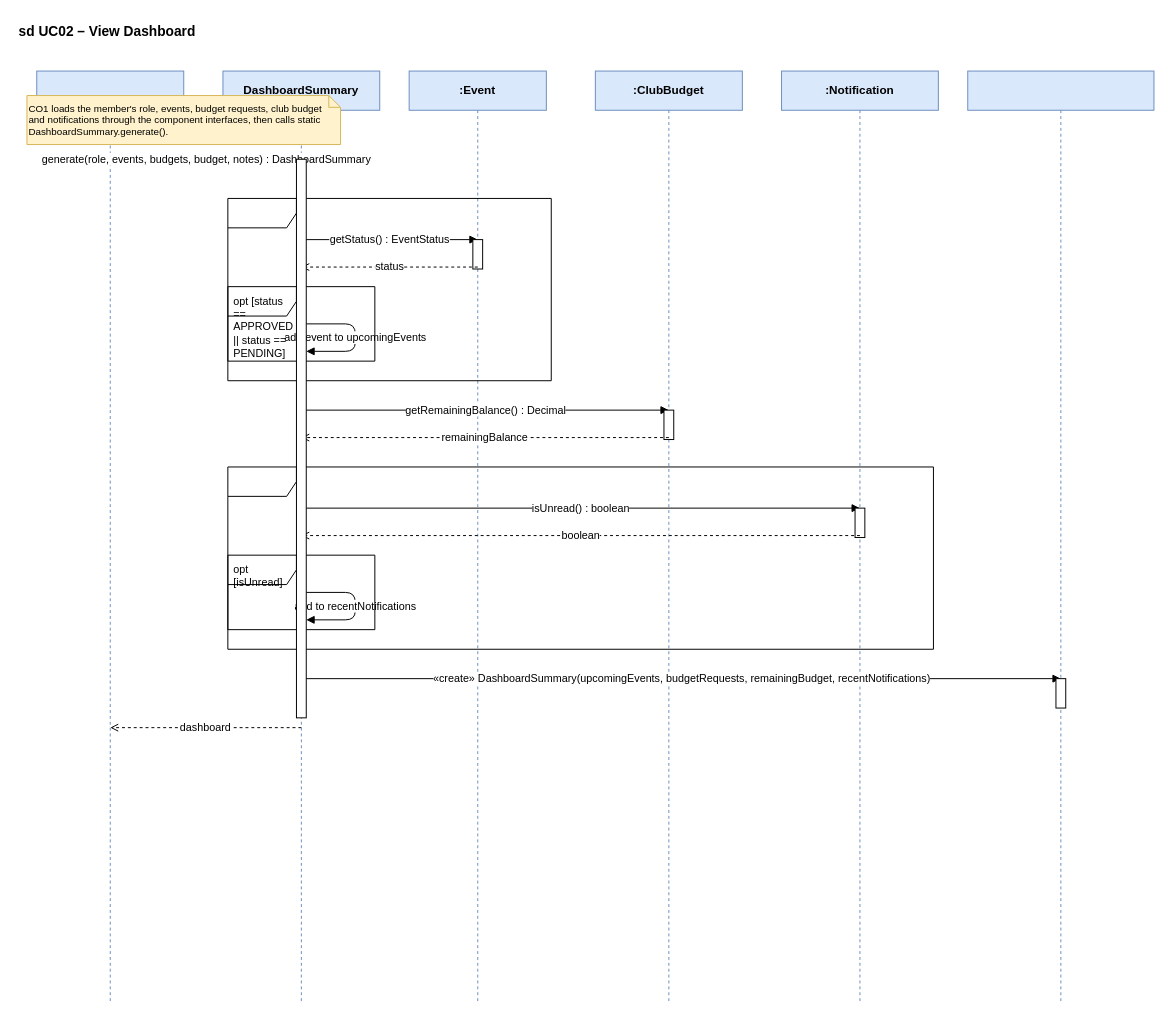
Image size: 1171x1019. Some labels were removed from this diagram. The shapes that lost their labels are listed below. From the top down, each one's box as (x1, y1, x2, y2) in pixels, then its label:
(227, 197, 551, 381): loop [* for each event in events]
(36, 70, 184, 1002): «actor» Club Member
(967, 70, 1154, 1002): :DashboardSummary
(227, 466, 933, 649): loop [* for each notification in notifications]
